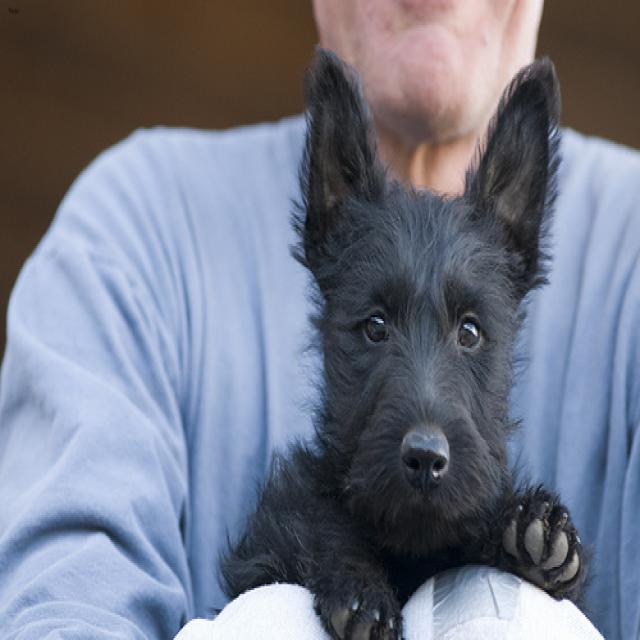dog-scottish_terrier: (204, 25, 593, 636)
